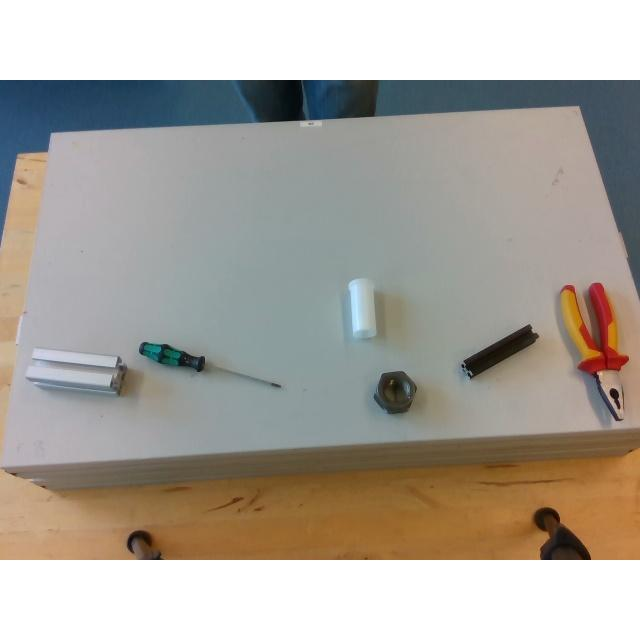F20_20_B: (461, 325, 539, 377)
M30: (374, 372, 416, 412)
S40_40_G: (25, 347, 125, 393)
Screwdriver: (138, 342, 282, 386)
Spacer: (348, 280, 376, 336)
